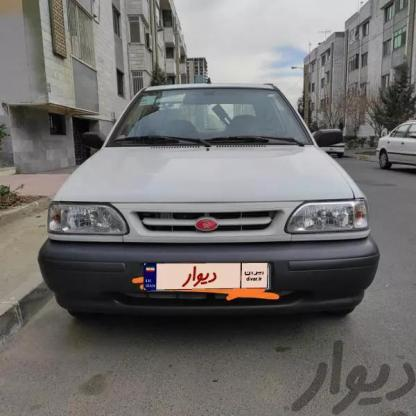Car: (35, 82, 379, 327), (368, 116, 416, 174), (313, 125, 350, 160)
